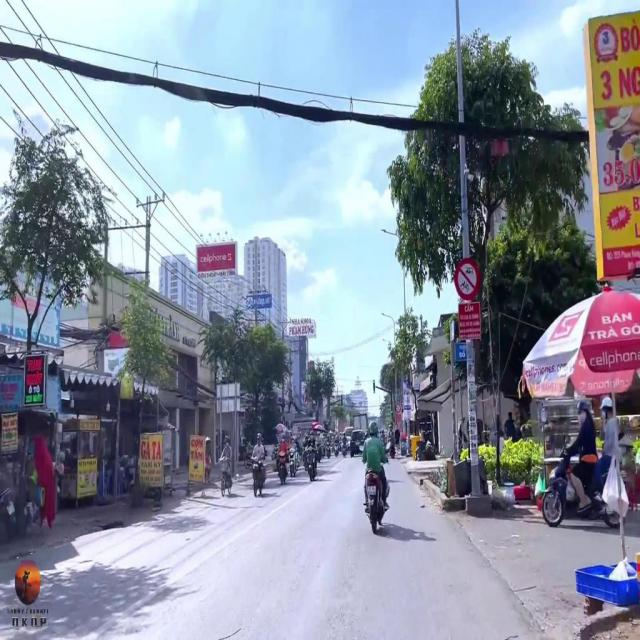cam_cac_loai_xe_3_banh: (454, 255, 482, 303)
